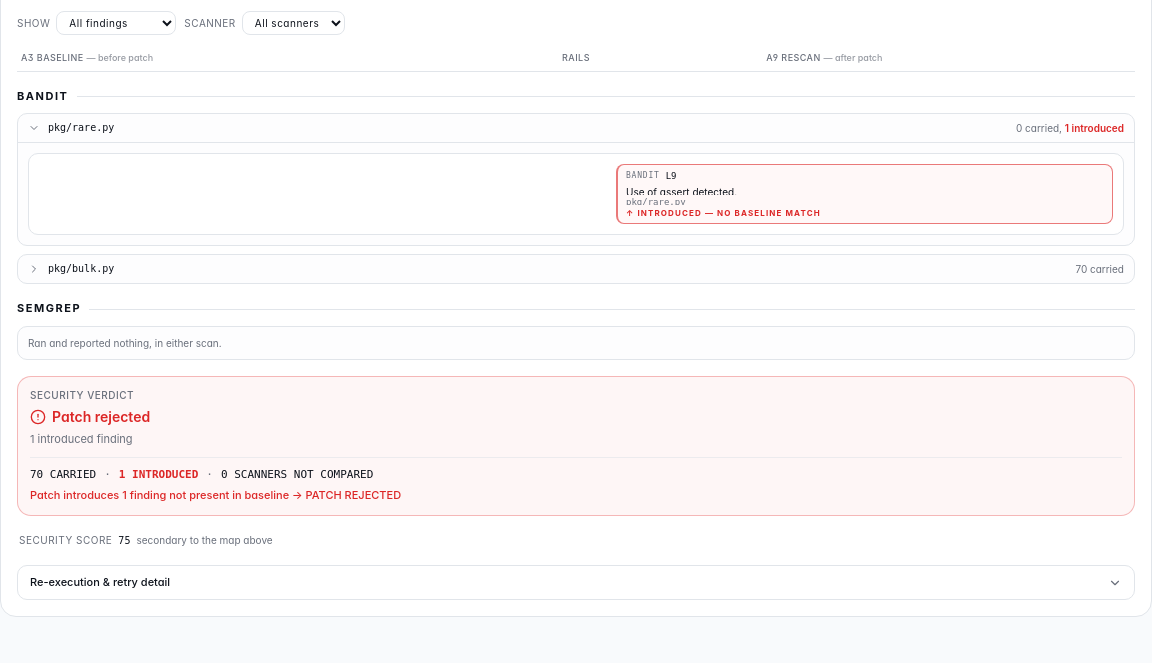
it: SecurityRescanPanel — scale › caps how much of a large section renders at once, on request
Expected: the button with aria-label "Introduced bandit finding in pkg/rare.py at line 9 — no base" is shown, [616,164,1113,224]
Click the text "70 carried": click(1100, 270) [1075,262,1124,278]
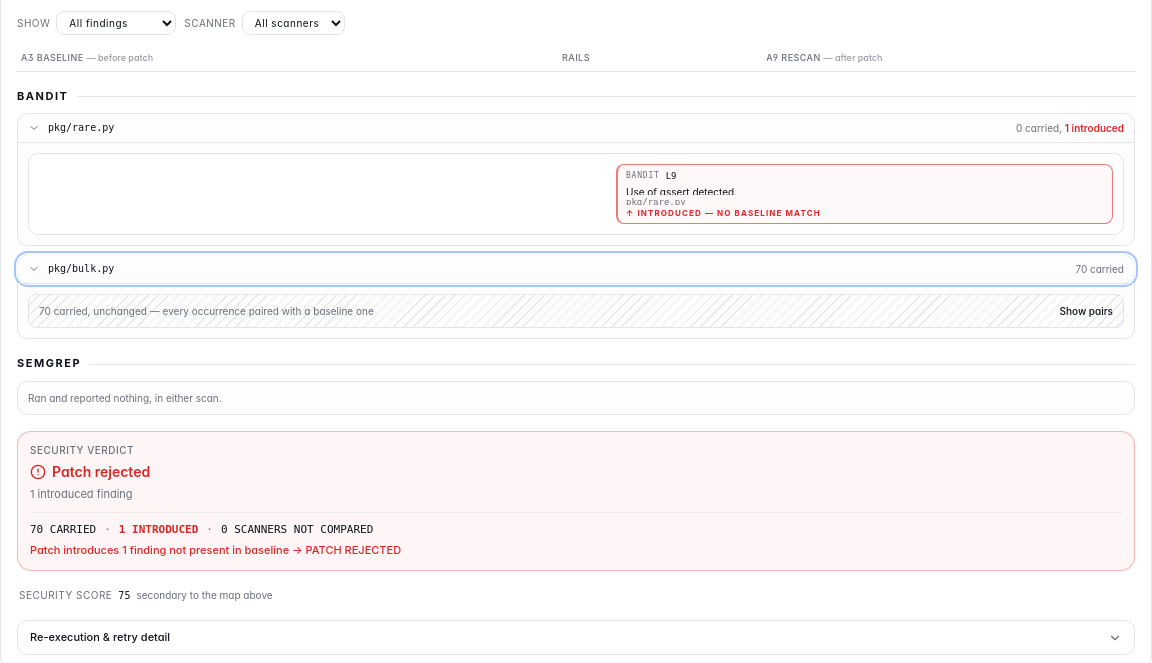
Click the text "70 carried, unchanged": click(206, 312) [39,304,374,320]
(page scrolled)
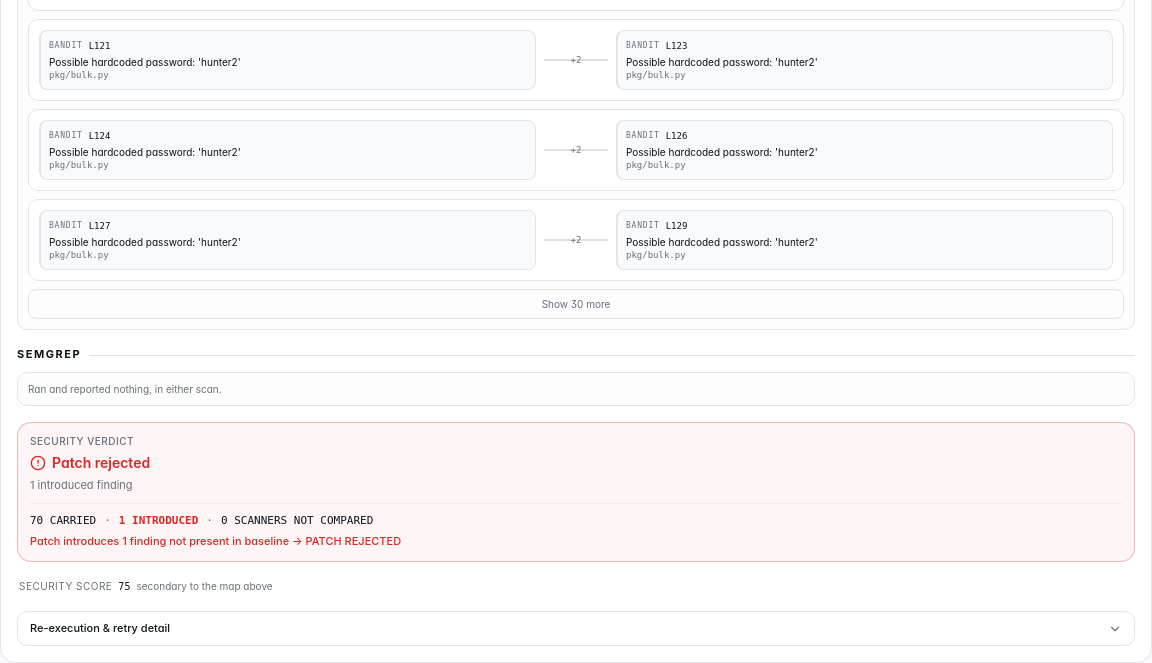
Result: the button "Show 30 more" is shown at [28,290,1124,320]
